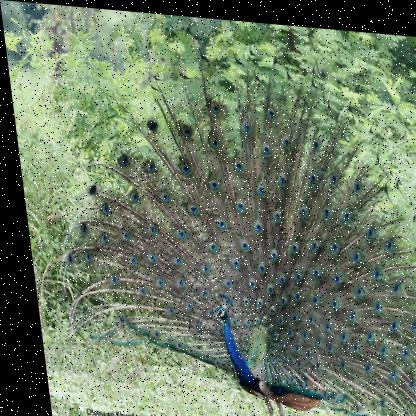Burung: (27, 25, 415, 415)
